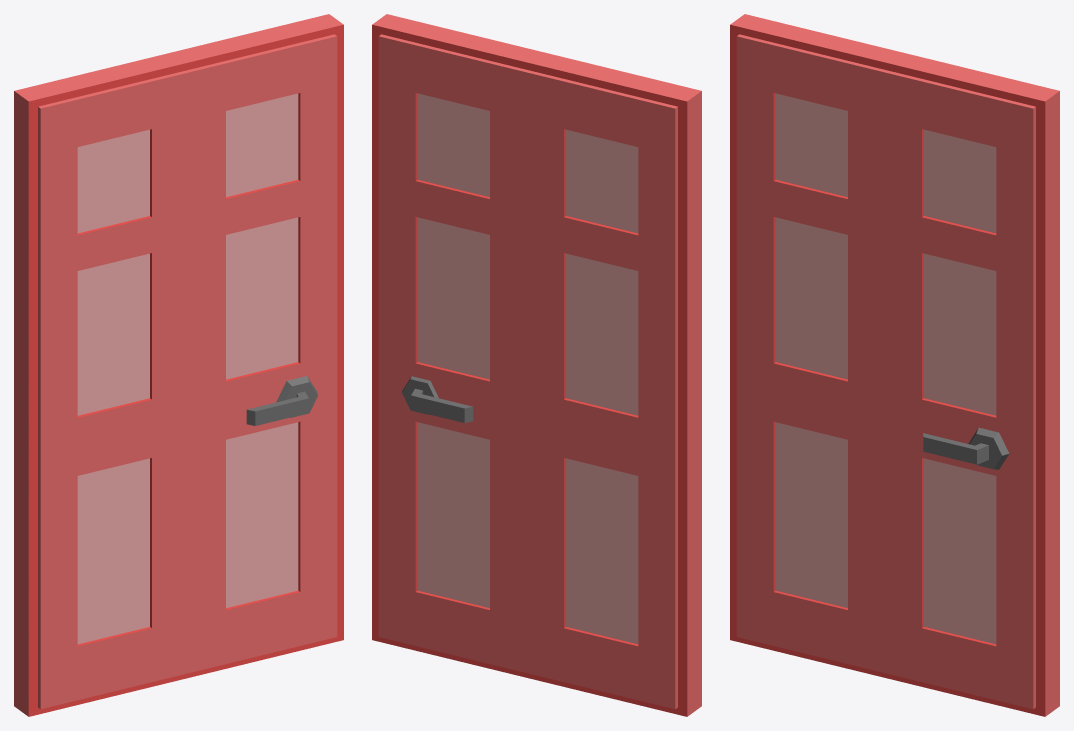
The model's file is Door 1.FBX.
3 renders of one model, left to right at view 1: azimuth 30°, elevation 25°; view 2: azimuth 150°, elevation 25°; view 3: azimuth 330°, elevation 25°, orthographic.
Parts seen in each view (by area): view 1: Object020; view 2: Object020; view 3: Object020.
Boxes of the visible parts, x1,y1,x2,y2 form: Object020: (14,14,343,716); Object020: (372,14,701,716); Object020: (730,14,1059,716).
Bounding box in the file's own units: 91.29 × 170 × 22.
Materials: 1 (1 with a texture image).
